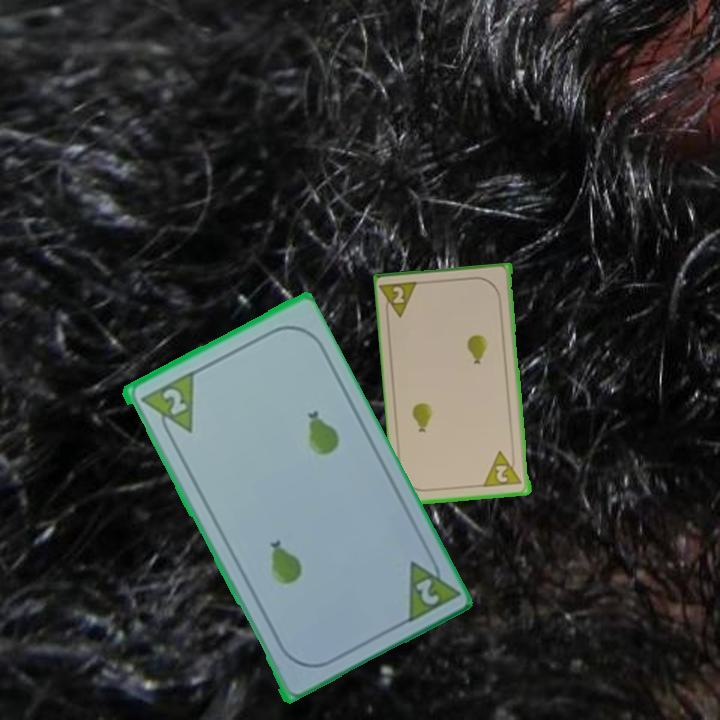2p: (400, 547, 460, 627), (378, 278, 423, 322), (482, 447, 525, 490), (158, 384, 189, 418)
